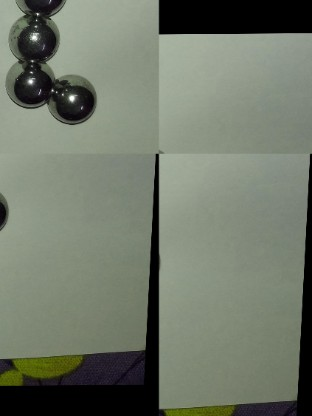ironball: (2, 15, 69, 62), (48, 71, 101, 128), (0, 61, 55, 109), (12, 0, 69, 18)
